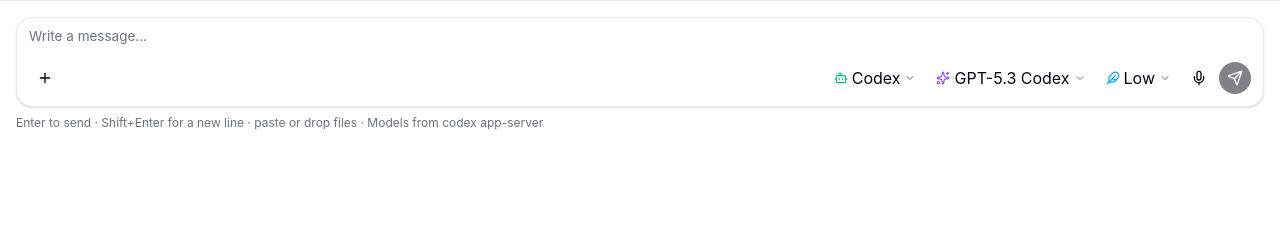
Scenario: AssistantComposer › renders mention options in document flow so they are not clipped by overflow-hidden cards
Type "@sym" into the text box with placeholder "Write a message...".
click(640, 40); type("@sym")  # box [17,18,1263,62]
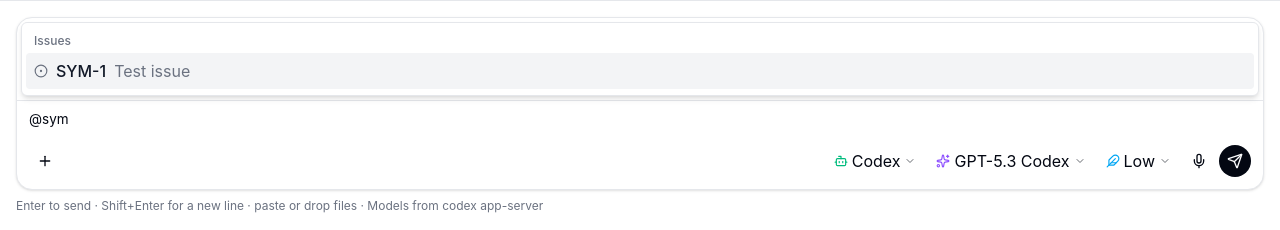
Check: the list is shown, box [21,22,1259,96]
Check: the text "SYM-1" is shown, box [56,59,106,83]
